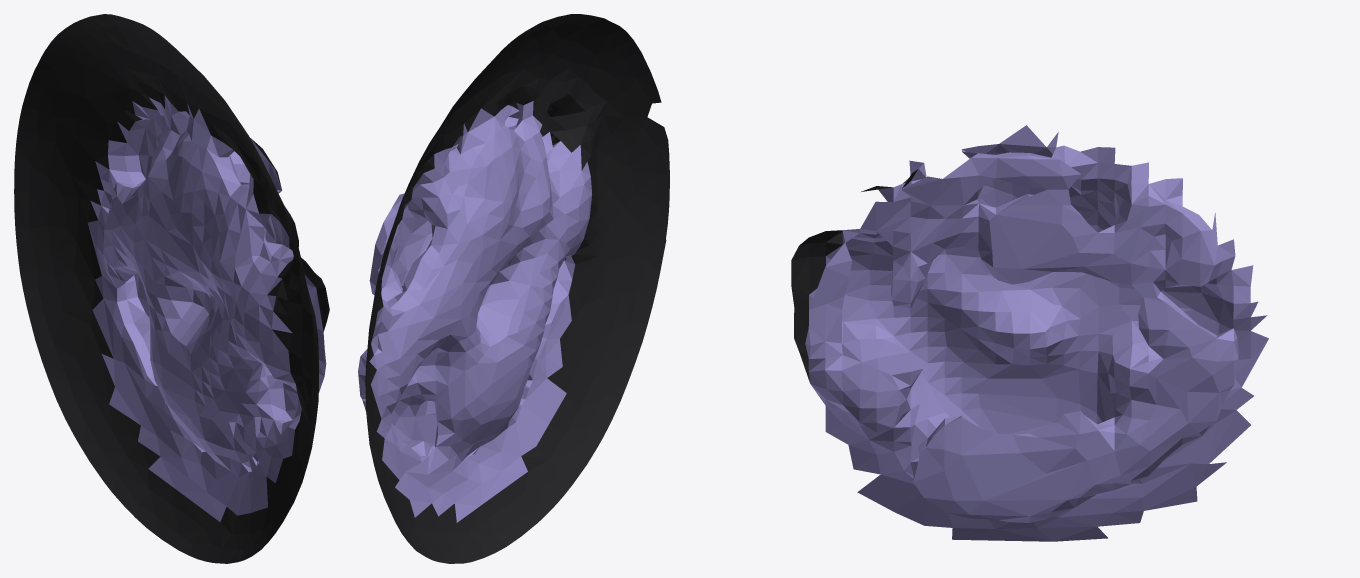
The model's file is scirocco-wheel.glb.
The picture shows the model from 3 angles, left to right: view 1: azimuth 30°, elevation 25°; view 2: azimuth 150°, elevation 25°; view 3: azimuth 270°, elevation 25°; orthographic projection. The views are drawn at different scales.
Parts seen in each view (by area): view 1: wheel; view 2: wheel; view 3: wheel.
Part boxes in pixels (x1=…): wheel: x1=14, y1=14, x2=329, y2=563; wheel: x1=358, y1=14, x2=669, y2=563; wheel: x1=791, y1=125, x2=1268, y2=541.
Size of the model in its own units: 0.0905 by 0.6053 by 0.6461.
